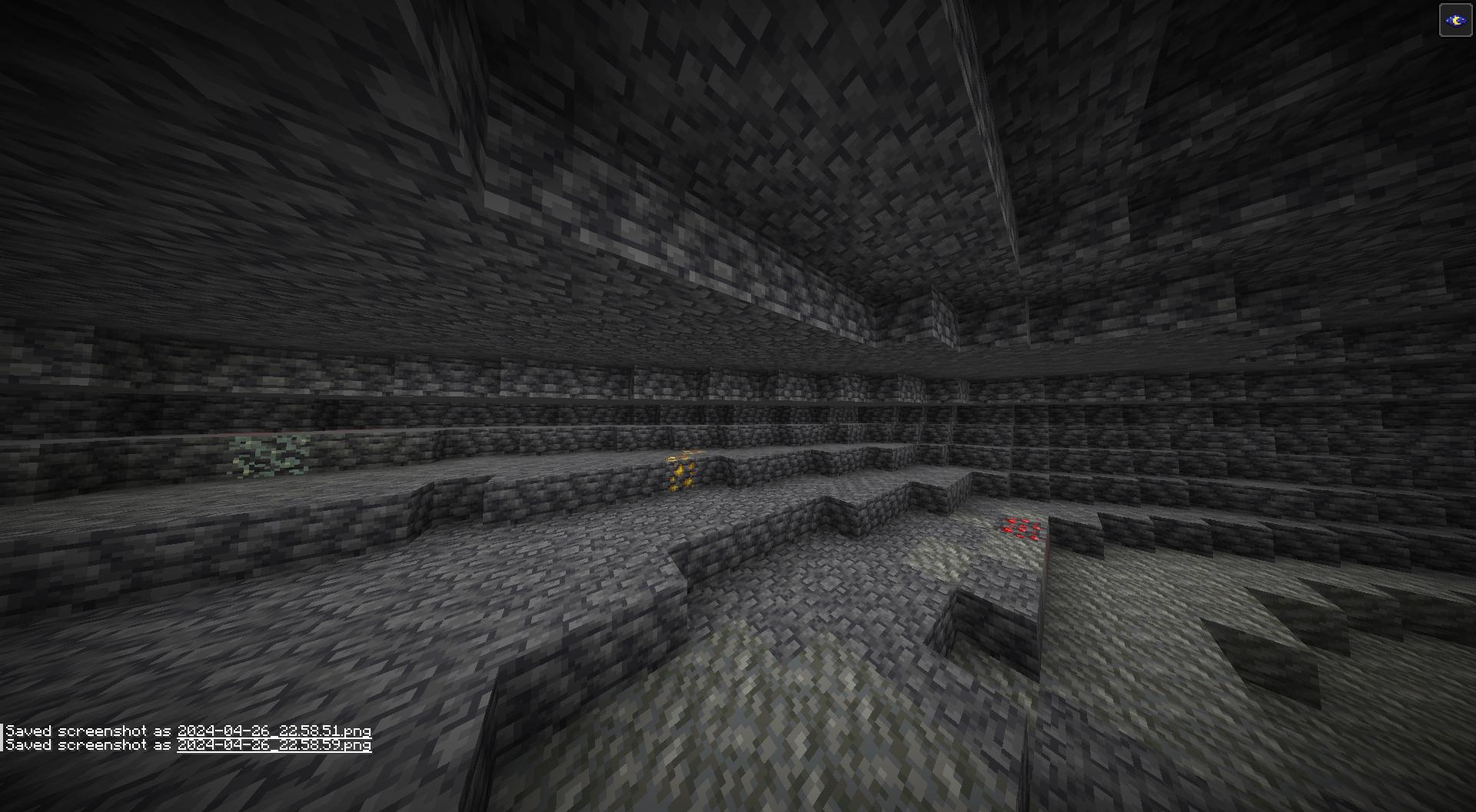gold ore: (664, 448, 703, 489)
redstone ore: (996, 514, 1049, 547)
